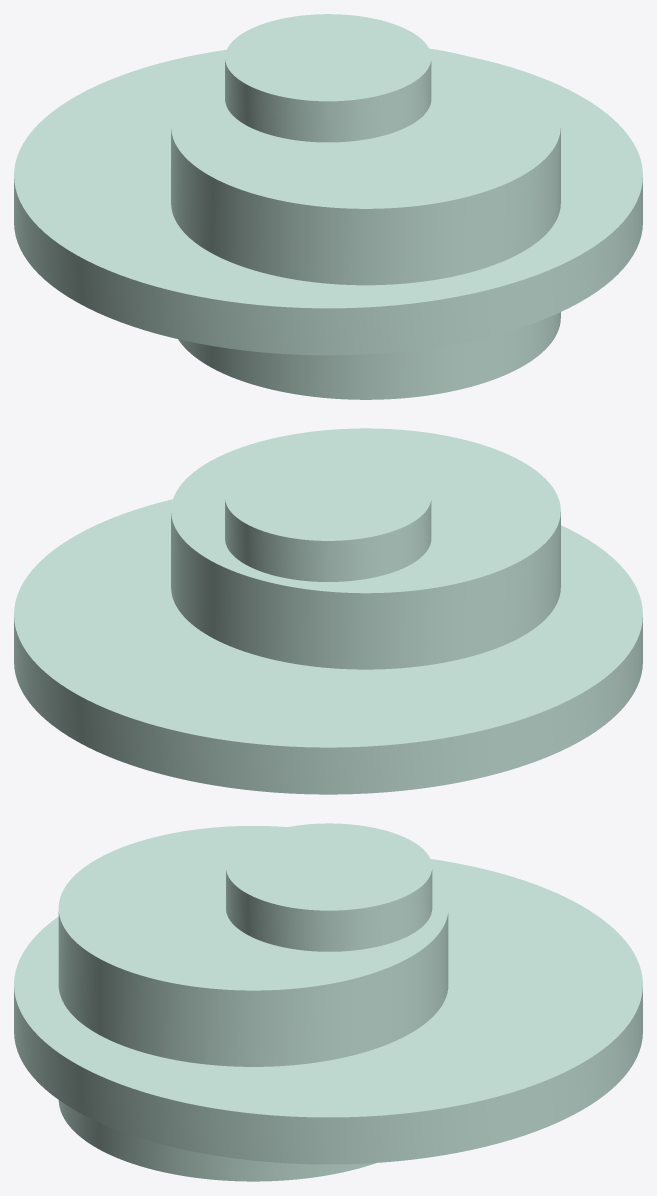
The picture shows the model from 3 angles, top to bottom: view 1: azimuth 30°, elevation 25°; view 2: azimuth 150°, elevation 25°; view 3: azimuth 270°, elevation 25°; orthographic projection.
Parts seen in each view (by area): view 1: Renderer Node; view 2: Renderer Node; view 3: Renderer Node.
Boxes of the visible parts, left/top/right/bottom form: Renderer Node: left=14, top=14, right=642, bottom=399; Renderer Node: left=14, top=428, right=642, bottom=794; Renderer Node: left=14, top=823, right=642, bottom=1181.
Bounding box in the file's own units: 1.52 × 0.6172 × 1.52.
